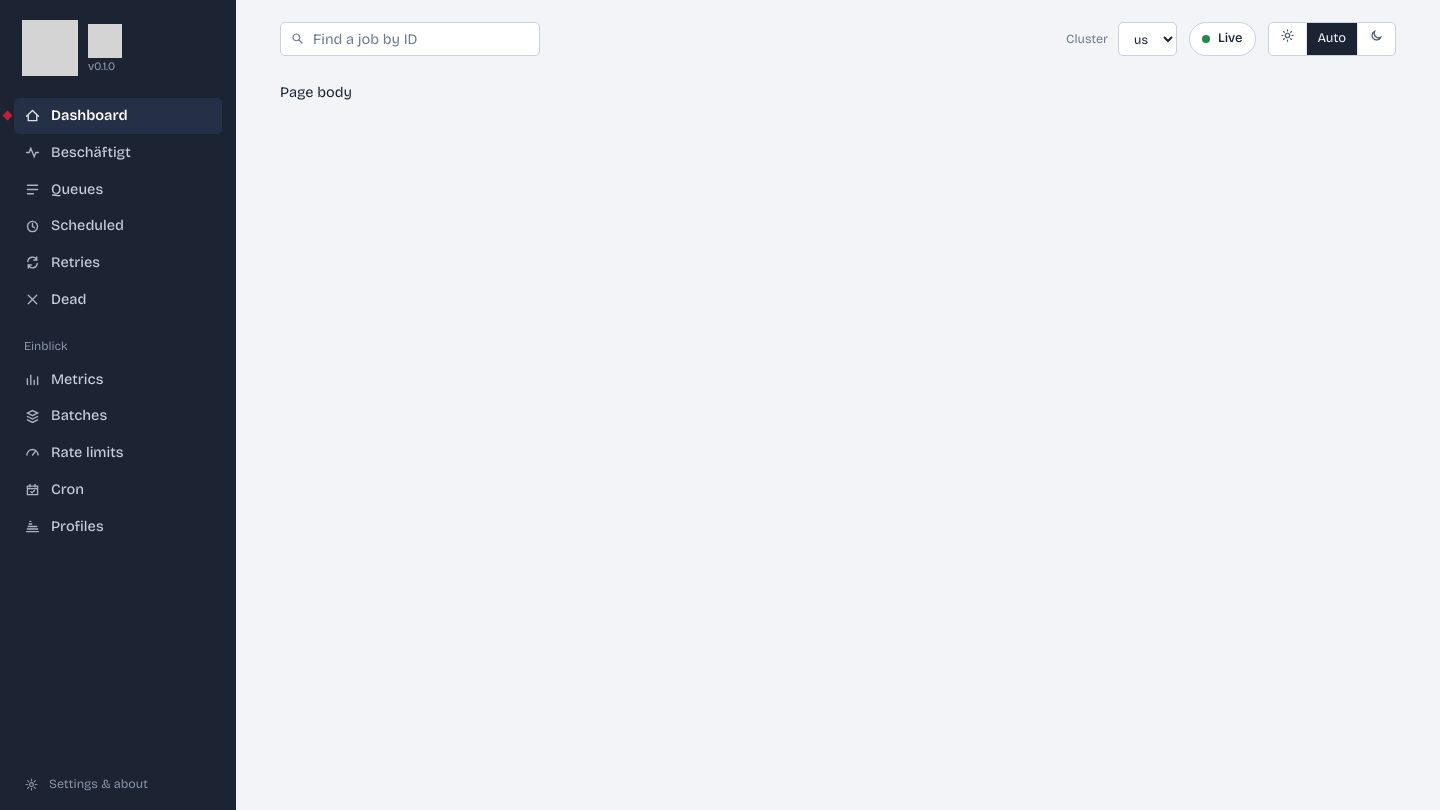
Layout › offers a cluster picker when there are several clusters
The width and height of the screenshot is (1440, 810).
Select "eu" in the dropdown labelled "Cluster" at (1148, 39), box top-left (1118, 22), bottom-right (1177, 56)
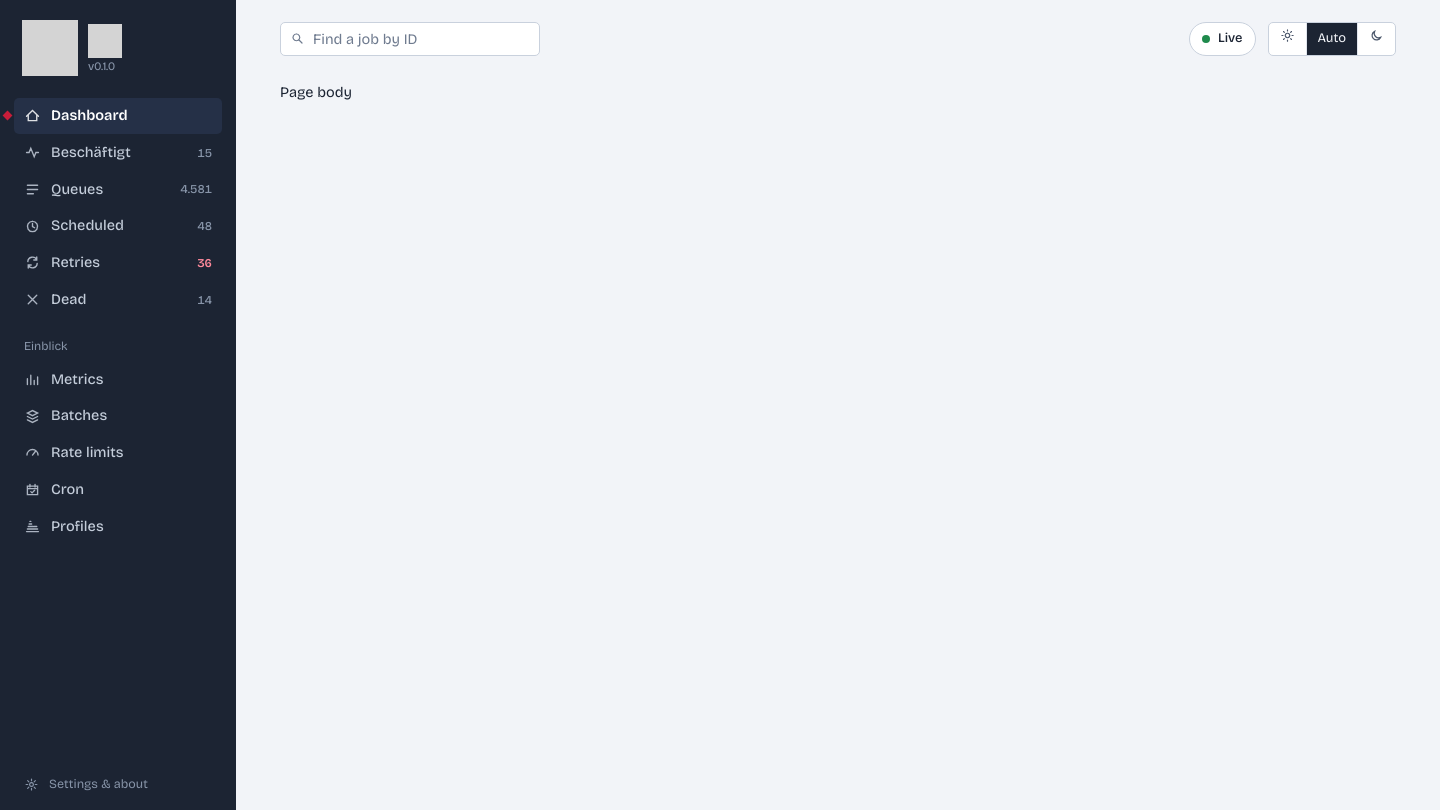
Check: the dropdown is gone
